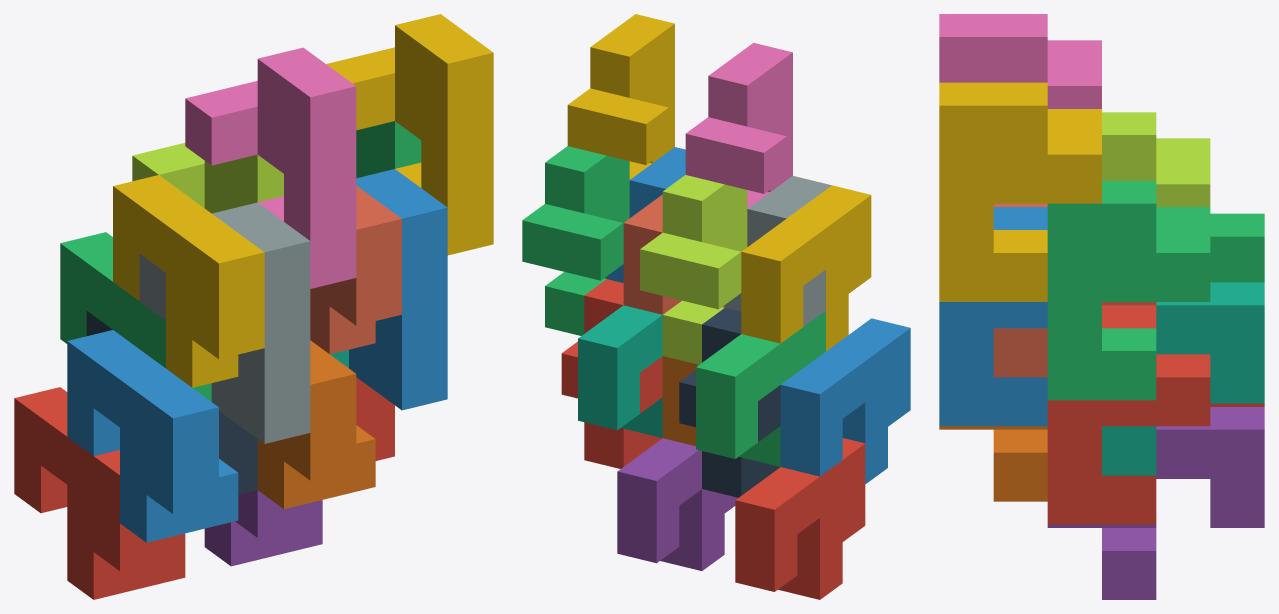
The model's file is tiling.obj.
3 renders of one model, left to right at view 1: azimuth 30°, elevation 25°; view 2: azimuth 150°, elevation 25°; view 3: azimuth 270°, elevation 25°, orthographic. The views are drawn at different scales.
Parts seen in each view (by area): view 1: copy_1_domain_2, copy_2_domain_4, copy_2_domain_8, copy_1_domain_4, copy_1_domain_1, copy_2_domain_2, copy_2_domain_6, copy_1_domain_6, copy_1_domain_8, copy_1_domain_3, copy_2_domain_3, copy_1_domain_5 (+3 smaller); view 2: copy_1_domain_2, copy_1_domain_1, copy_1_domain_4, copy_2_domain_3, copy_2_domain_7, copy_2_domain_4, copy_2_domain_8, copy_1_domain_5, copy_1_domain_3, copy_1_domain_7, copy_2_domain_5, copy_2_domain_1 (+4 smaller); view 3: copy_2_domain_8, copy_2_domain_7, copy_2_domain_5, copy_1_domain_5, copy_1_domain_7, copy_2_domain_6, copy_2_domain_4, copy_2_domain_3, copy_1_domain_6, copy_1_domain_3, copy_1_domain_8.
Boxes of the visible parts, x1,y1,x2,y2 form: copy_1_domain_2: [67, 330, 238, 542]; copy_2_domain_4: [185, 47, 356, 288]; copy_2_domain_8: [326, 14, 493, 255]; copy_1_domain_4: [113, 175, 264, 387]; copy_1_domain_1: [14, 387, 185, 599]; copy_2_domain_2: [139, 202, 310, 443]; copy_2_domain_6: [349, 169, 447, 410]; copy_1_domain_6: [257, 340, 375, 509]; copy_1_domain_8: [310, 185, 401, 354]; copy_1_domain_3: [60, 232, 211, 401]; copy_2_domain_3: [132, 143, 283, 213]; copy_1_domain_5: [204, 490, 322, 566]; copy_1_domain_2: [780, 318, 910, 484]; copy_1_domain_1: [735, 438, 865, 599]; copy_1_domain_4: [741, 185, 871, 351]; copy_2_domain_3: [640, 175, 747, 364]; copy_2_domain_7: [522, 146, 629, 335]; copy_2_domain_4: [685, 42, 792, 208]; copy_2_domain_8: [567, 14, 674, 179]; copy_1_domain_5: [617, 438, 737, 570]; copy_1_domain_3: [696, 311, 825, 466]; copy_1_domain_7: [578, 305, 662, 437]; copy_2_domain_5: [561, 279, 662, 468]; copy_2_domain_1: [679, 308, 780, 497]; copy_2_domain_8: [939, 82, 1101, 301]; copy_2_domain_7: [1047, 181, 1210, 400]; copy_2_domain_5: [1047, 305, 1210, 524]; copy_1_domain_5: [1047, 407, 1264, 599]; copy_1_domain_7: [1102, 282, 1264, 475]; copy_2_domain_6: [939, 207, 1047, 426]; copy_2_domain_4: [939, 14, 1101, 108]; copy_2_domain_3: [1102, 112, 1210, 206]; copy_1_domain_6: [939, 426, 1047, 501]; copy_1_domain_3: [1210, 213, 1264, 282]; copy_1_domain_8: [993, 203, 1156, 377].
Size of the model in its own units: 7 by 11 by 6.
